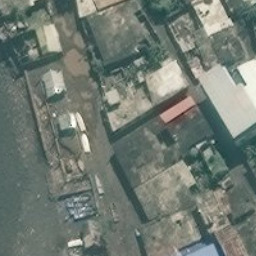buildings: (113, 100, 226, 220), (199, 58, 256, 152), (74, 1, 160, 63), (139, 214, 245, 256), (189, 1, 241, 46), (143, 57, 189, 102), (169, 10, 201, 51), (41, 68, 71, 103), (99, 68, 126, 106), (33, 24, 62, 58), (54, 113, 88, 135), (105, 108, 129, 132)
